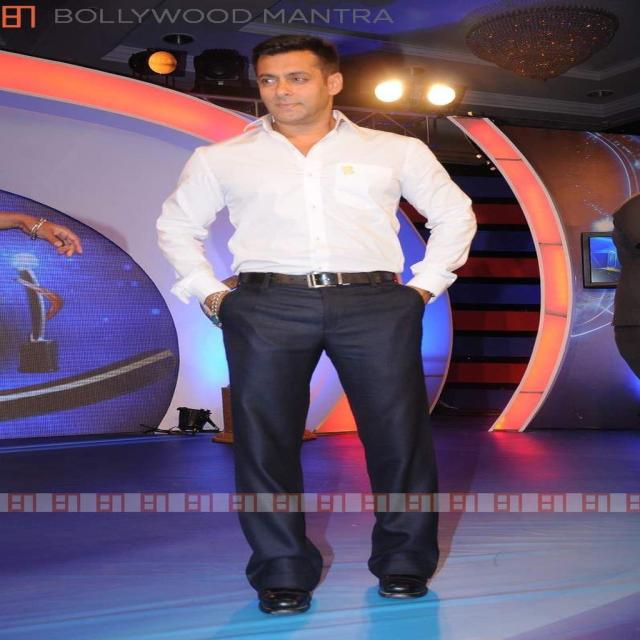Face: (241, 54, 357, 132)
